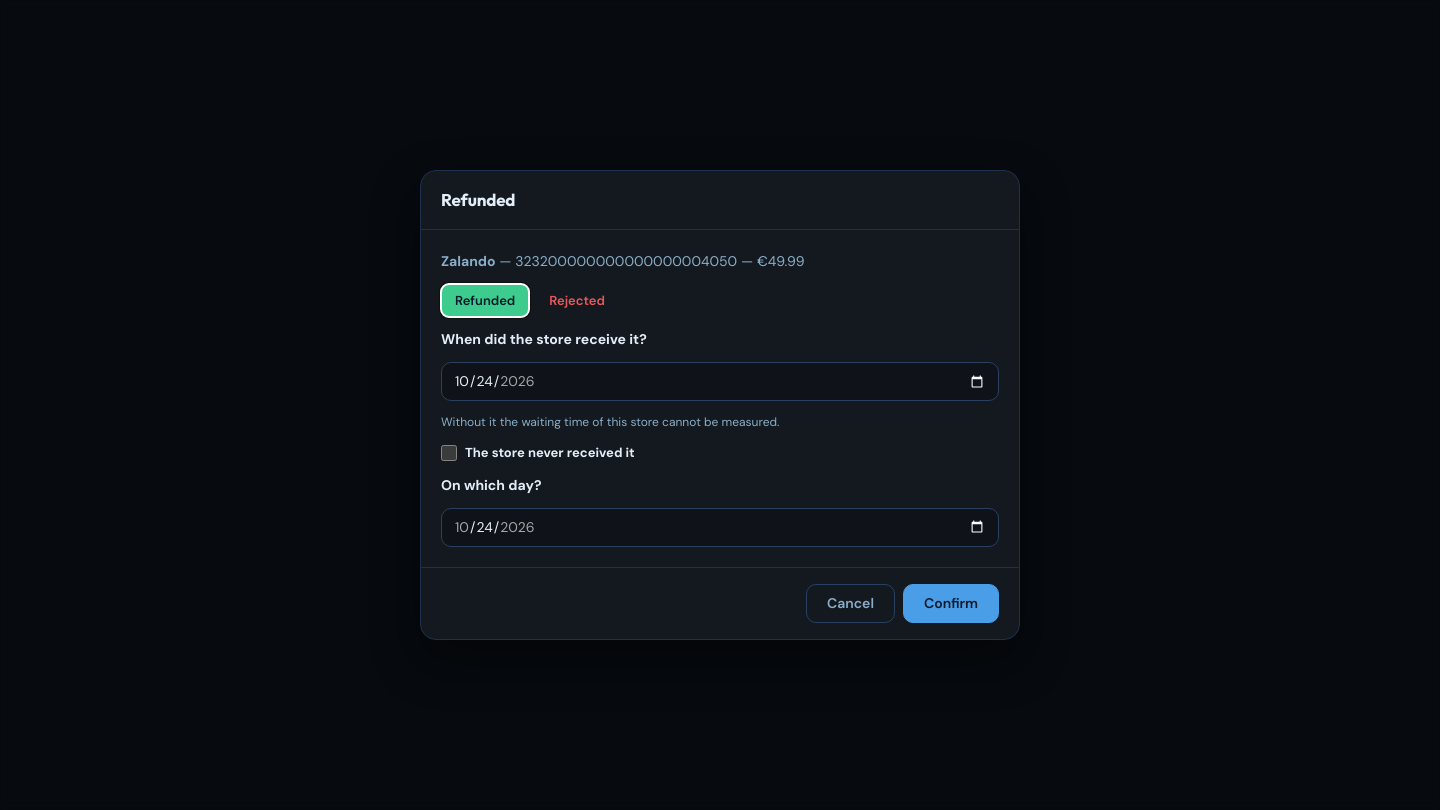
Test: a decision that skips the reception › says the reception day is missing rather than blaming the drop-off
Clear the date field labelled "When did the store receive it?": (720,382) [441,362,999,401]
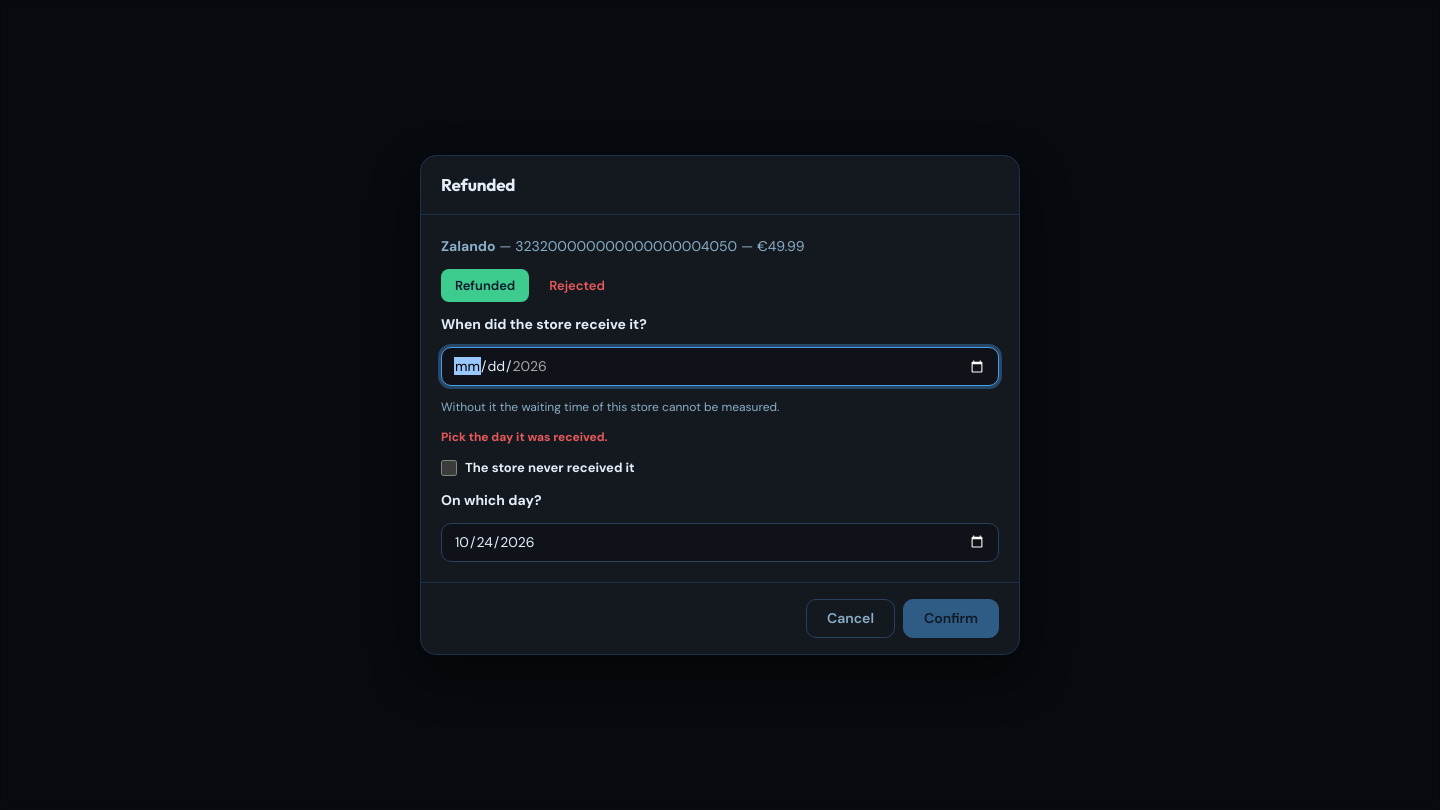
Expected: the text "Pick the day it was received." is shown, [441,429,608,445]
Expected: the button "Confirm" is disabled, [903,599,999,638]
